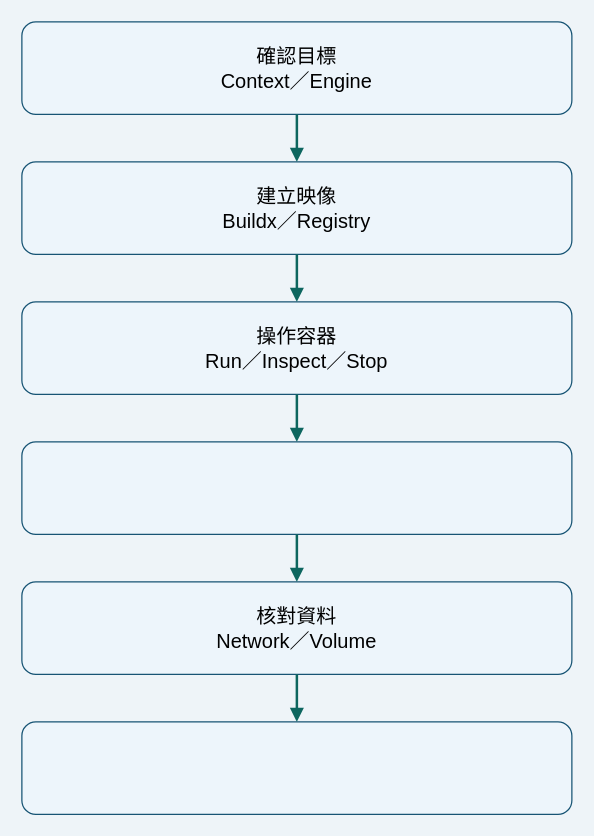
This 594x836 diagram has some shape labels left out. The shapes that lost their labels are listed below. From the top down, each one's box as (x1, y1, x2, y2) in pixels, then its label:
(21, 441, 572, 534): 診斷取證 Logs／Stats／Events
(21, 721, 572, 814): 管理專案 Config／Up／Down
